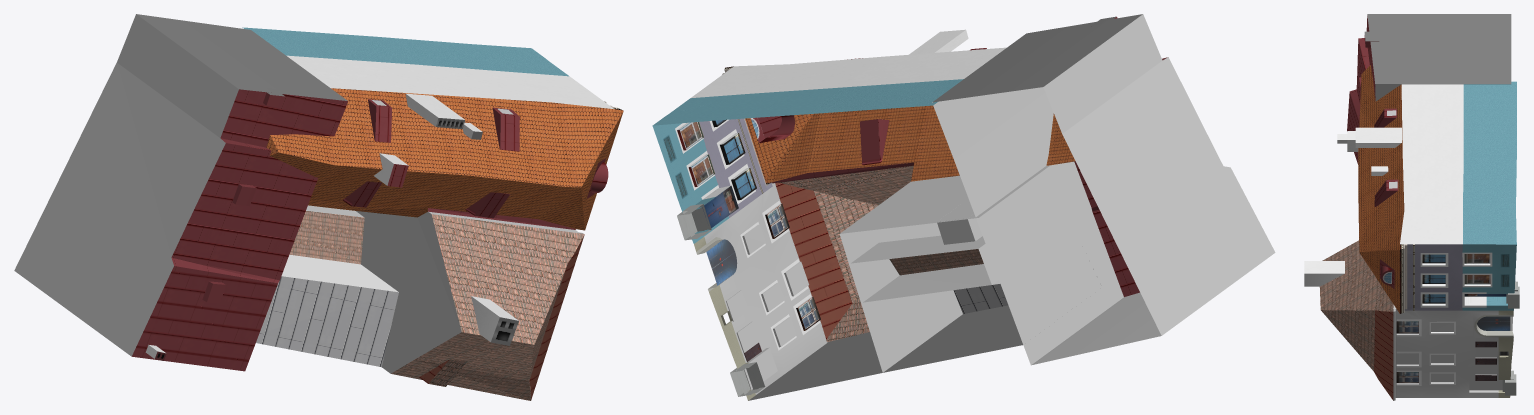
The model's file is Rataskaevu_10.obj.
3 views of the same model, side by side, from view 1: azimuth 30°, elevation 25°; view 2: azimuth 150°, elevation 25°; view 3: azimuth 270°, elevation 25° (orthographic). The views are drawn at different scales.
Visible parts, largest first — view 1: Rataskaevu_10; view 2: Rataskaevu_10; view 3: Rataskaevu_10.
Part boxes in pixels (x1,y1,x2,y2): Rataskaevu_10: (14, 14, 623, 400); Rataskaevu_10: (652, 14, 1275, 400); Rataskaevu_10: (1304, 14, 1519, 400).
Bounding box in the file's own units: 37.41 × 27.06 × 18.79.
